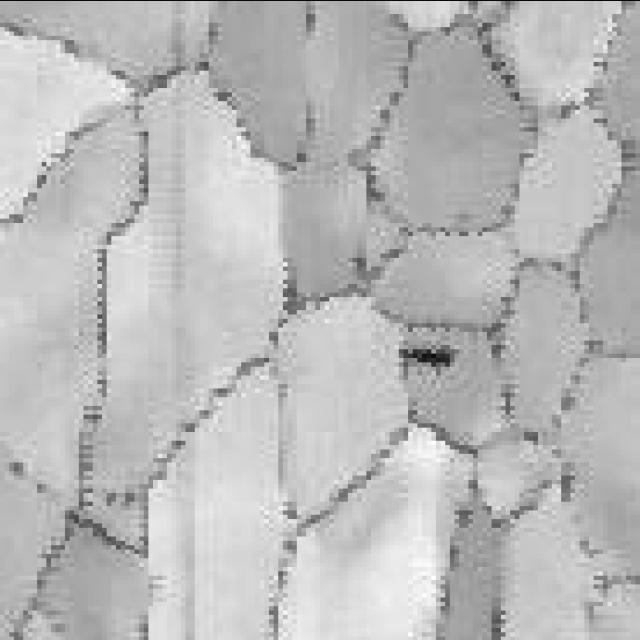good_void: (394, 340, 458, 373)
